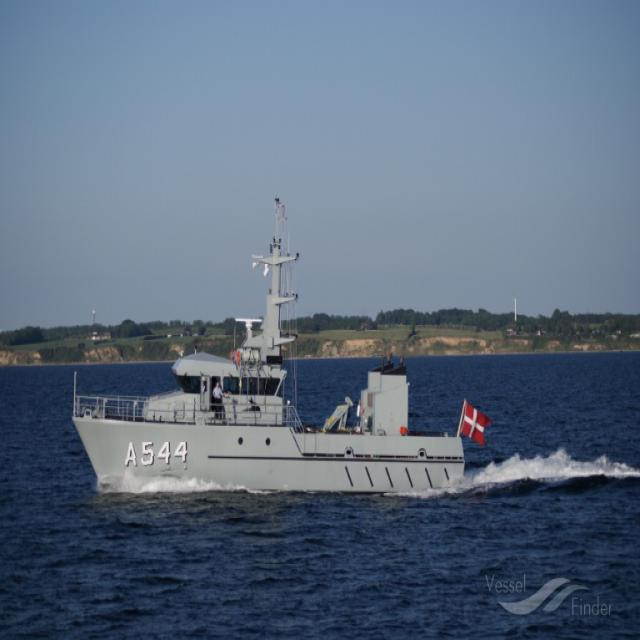OCR: (125, 442, 194, 476)
